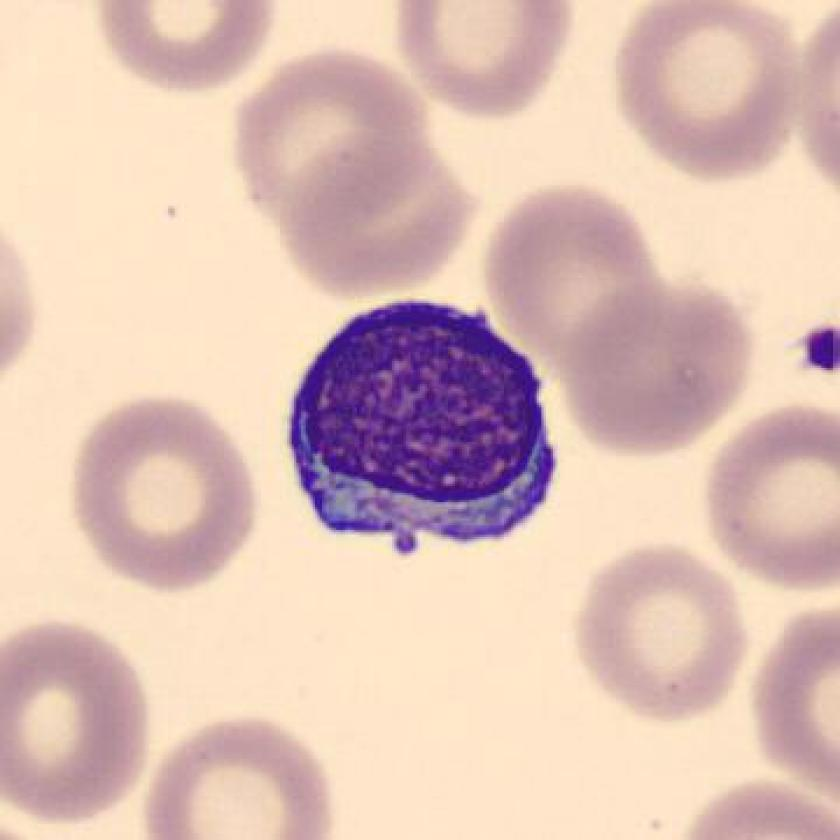lymphocyte: (269, 288, 575, 579)
platelets: (794, 323, 840, 387)
